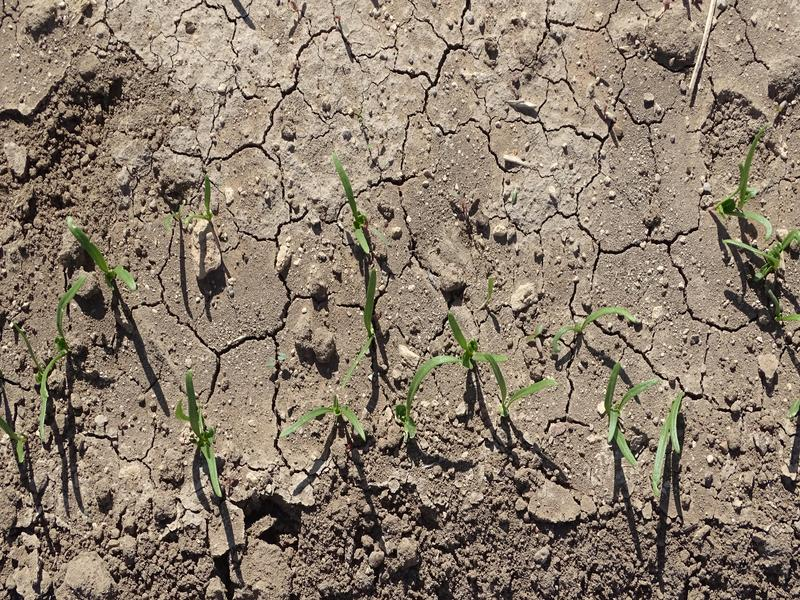Espinaca: (407, 315, 555, 414), (726, 130, 796, 290), (35, 275, 90, 422), (181, 372, 226, 499), (331, 149, 379, 259), (70, 221, 138, 292), (276, 397, 373, 446), (596, 366, 643, 465), (557, 301, 640, 351), (652, 390, 692, 489)
